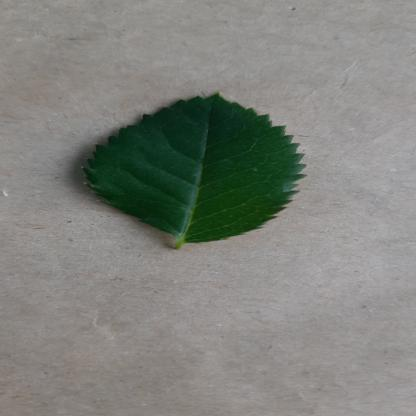normal: (78, 91, 308, 246)
